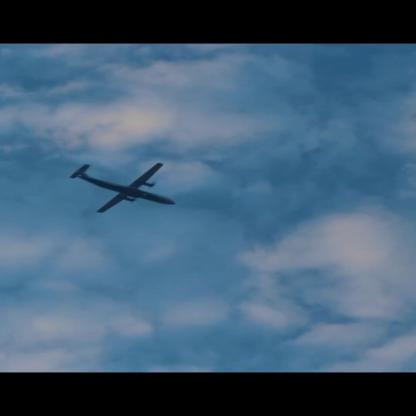plane: (69, 162, 176, 213)
